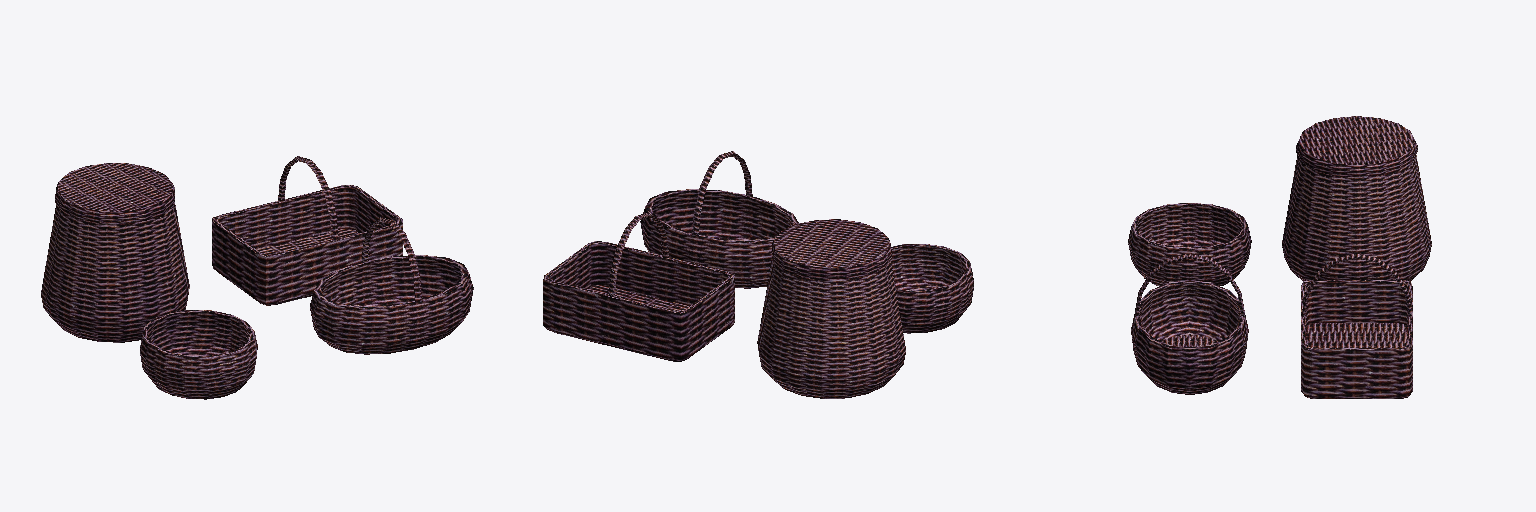
3 views of the same model, side by side, from view 1: azimuth 30°, elevation 25°; view 2: azimuth 150°, elevation 25°; view 3: azimuth 270°, elevation 25° (orthographic).
Visible parts, largest first — view 1: Cylinder.002, Cylinder.003, Cylinder.001, Cylinder; view 2: Cylinder.002, Cylinder.003, Cylinder.001, Cylinder; view 3: Cylinder.002, Cylinder.003, Cylinder.001, Cylinder.
Part boxes in pixels (x1,y1,x2,y2): Cylinder.002: (41,163,189,342); Cylinder.003: (212,156,402,305); Cylinder.001: (310,217,473,354); Cylinder: (140,310,257,399); Cylinder.002: (757,219,905,398); Cylinder.003: (543,212,734,361); Cylinder.001: (640,151,798,288); Cylinder: (891,244,973,333); Cylinder.002: (1282,116,1431,280); Cylinder.003: (1301,254,1412,398); Cylinder.001: (1131,254,1248,394); Cylinder: (1128,203,1251,285).
Bounding box in the file's own units: 6.94 × 2.59 × 5.46.
Materials: 1 (1 with a texture image).